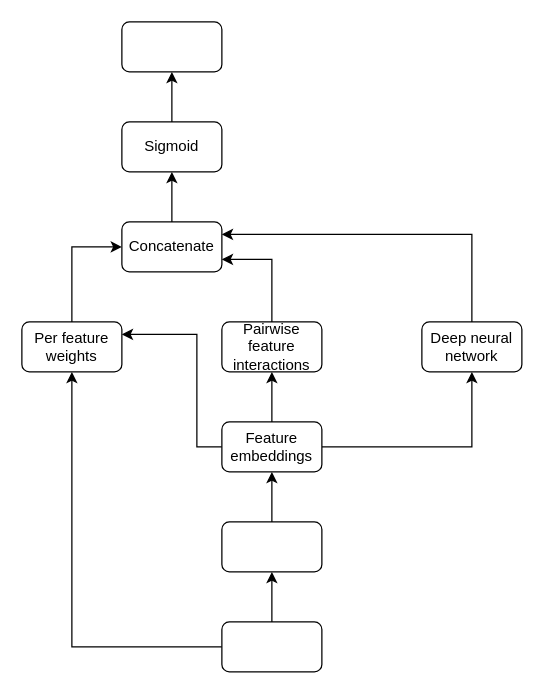
Image size: 544x694. Some labels were removed from this diagram. The shapes that lost their labels are listed below. From the top down, each one's centre as x and y in pixels, then its label:
At (x=171, y=46): "Probability".
At (x=271, y=546): "Embedding layers".
At (x=271, y=646): "Sparse input features".
